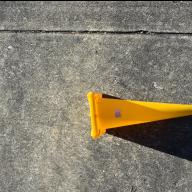cone: (86, 90, 192, 138)
